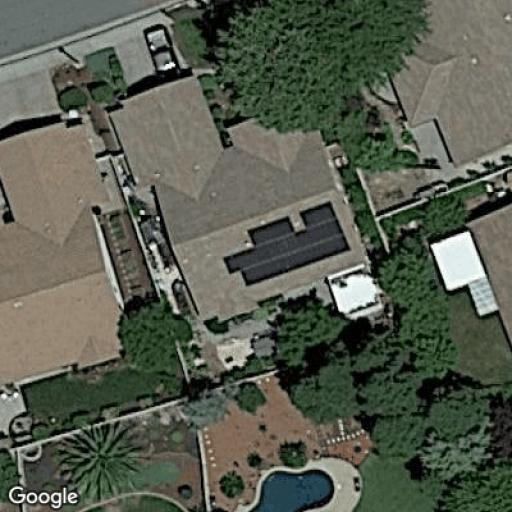solar-panel: (222, 199, 352, 289)
